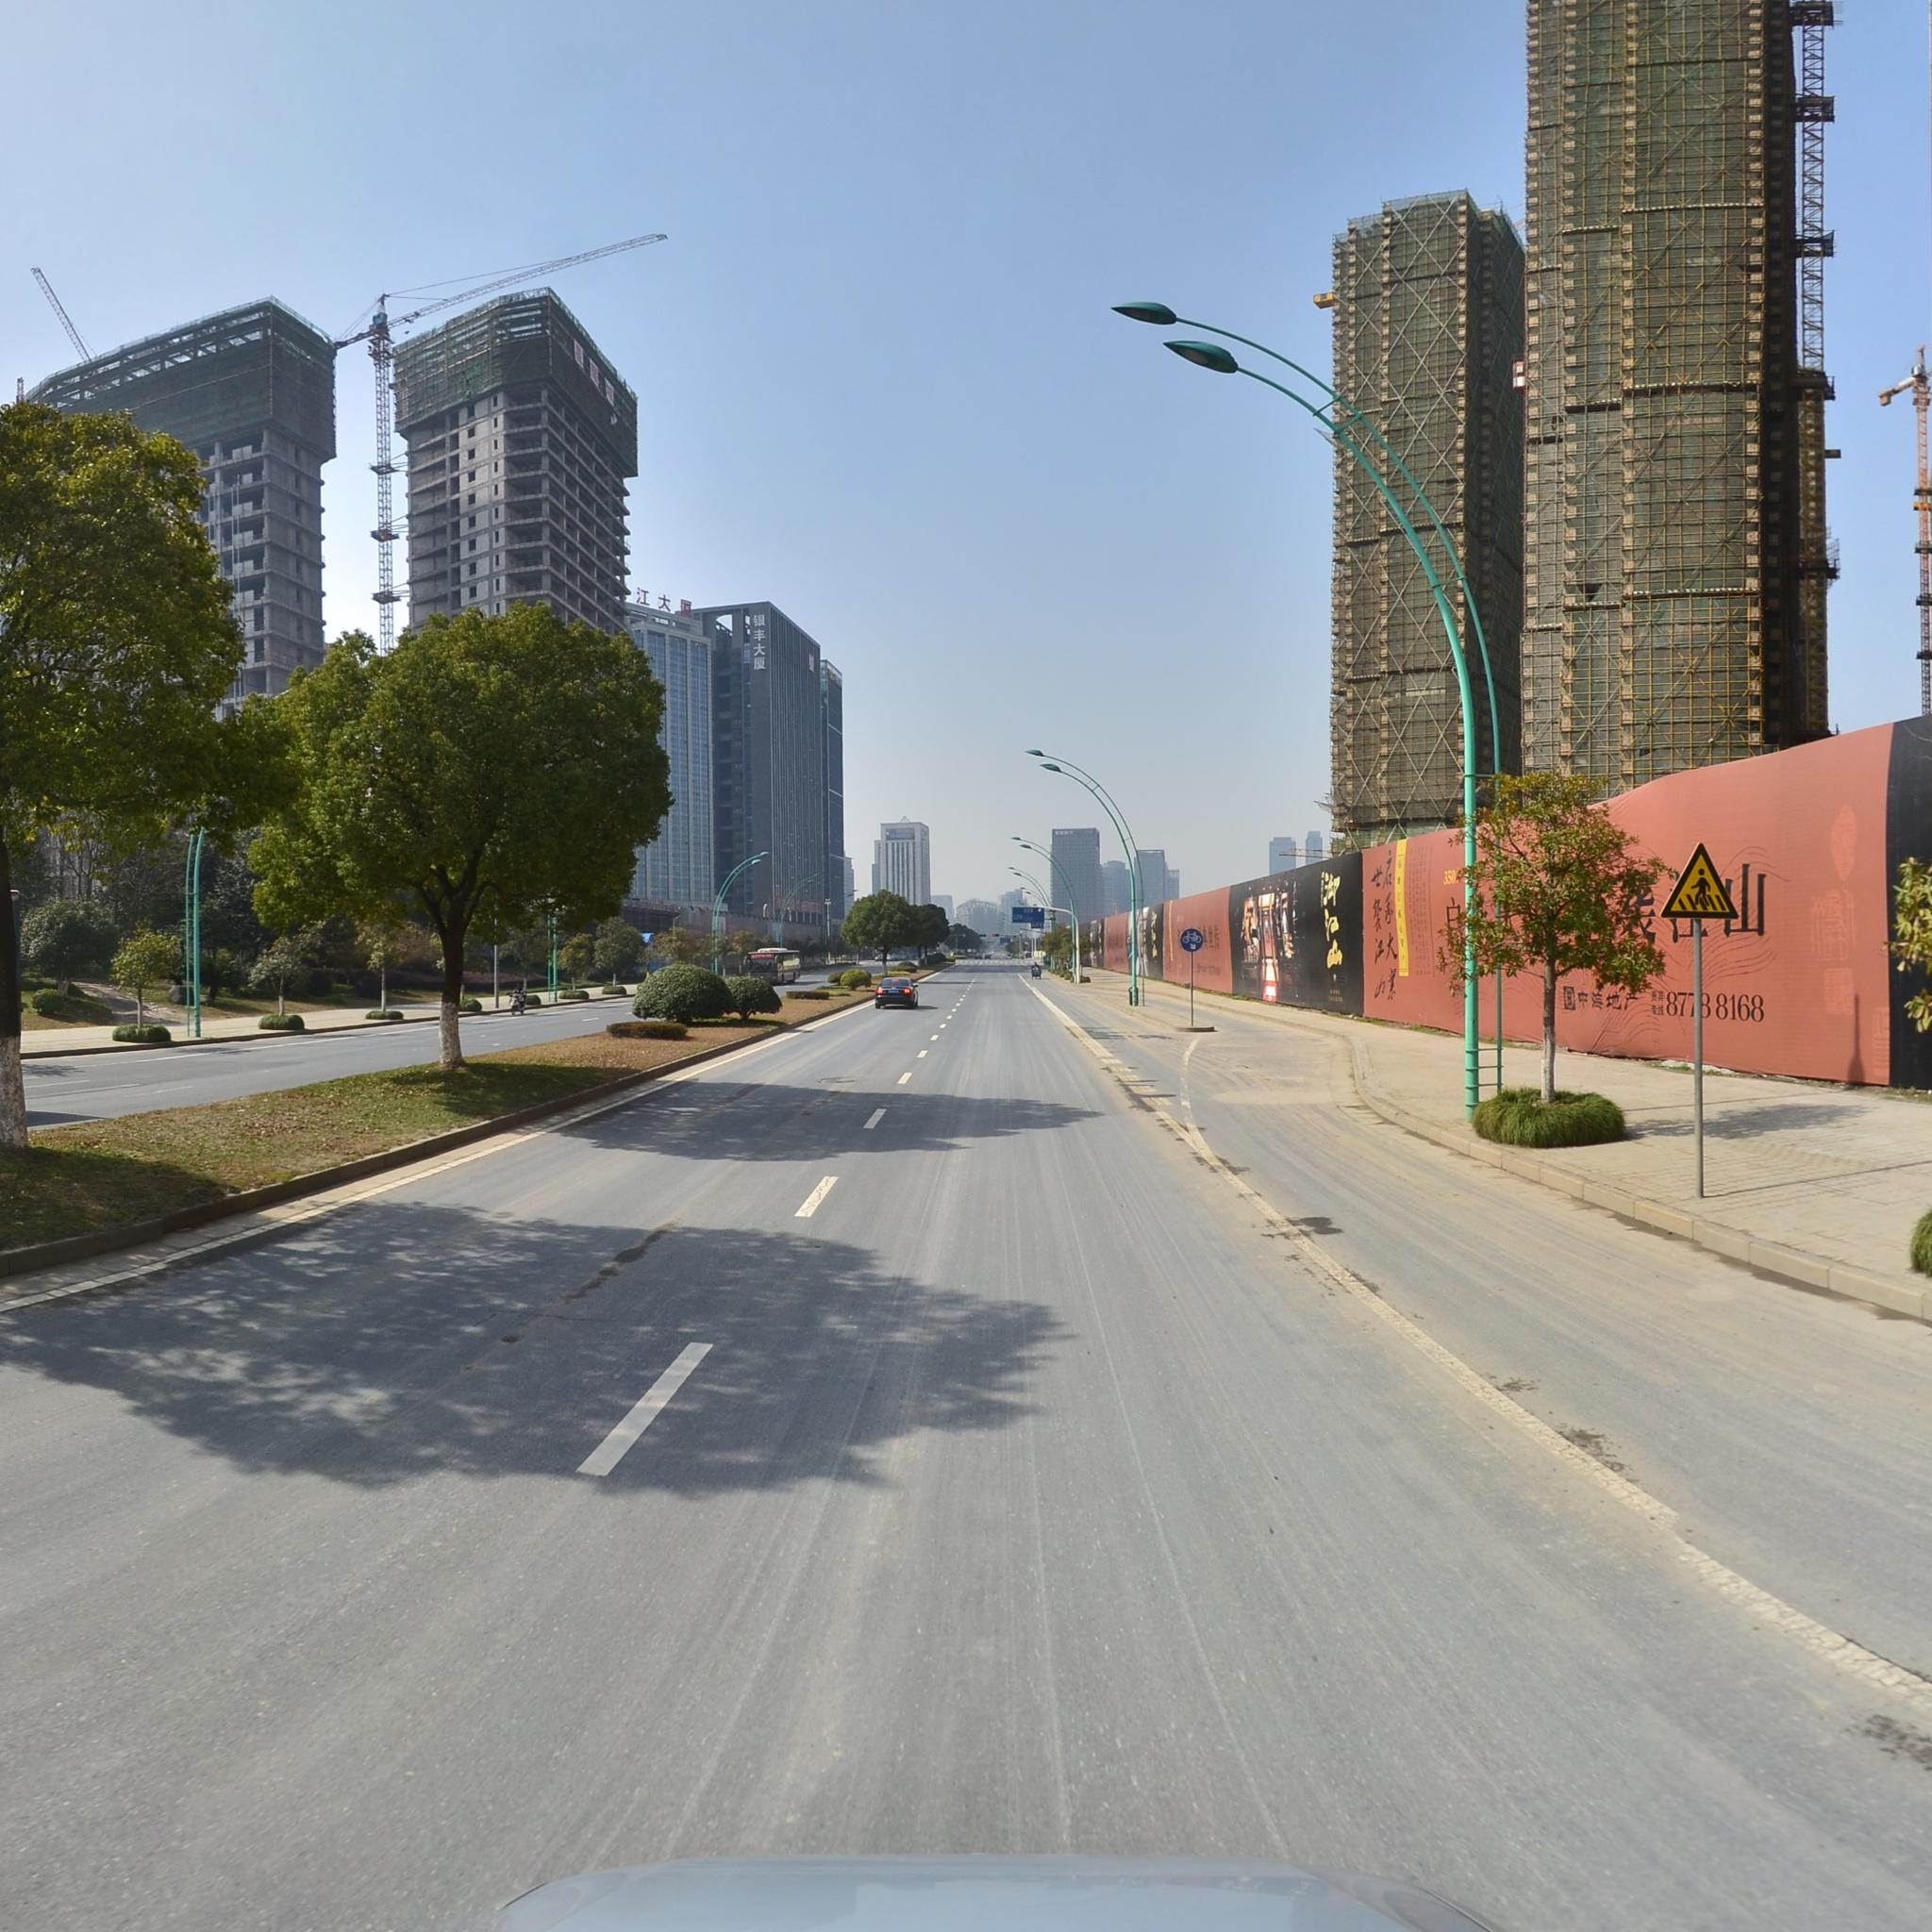w57: (1667, 840, 1739, 916)
